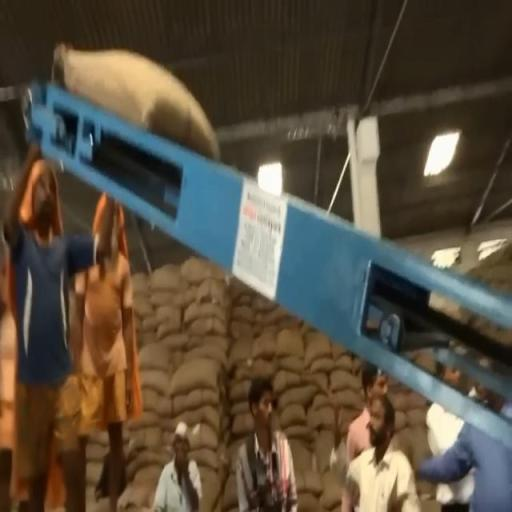c-belt-sack-count: (55, 46, 218, 159)
